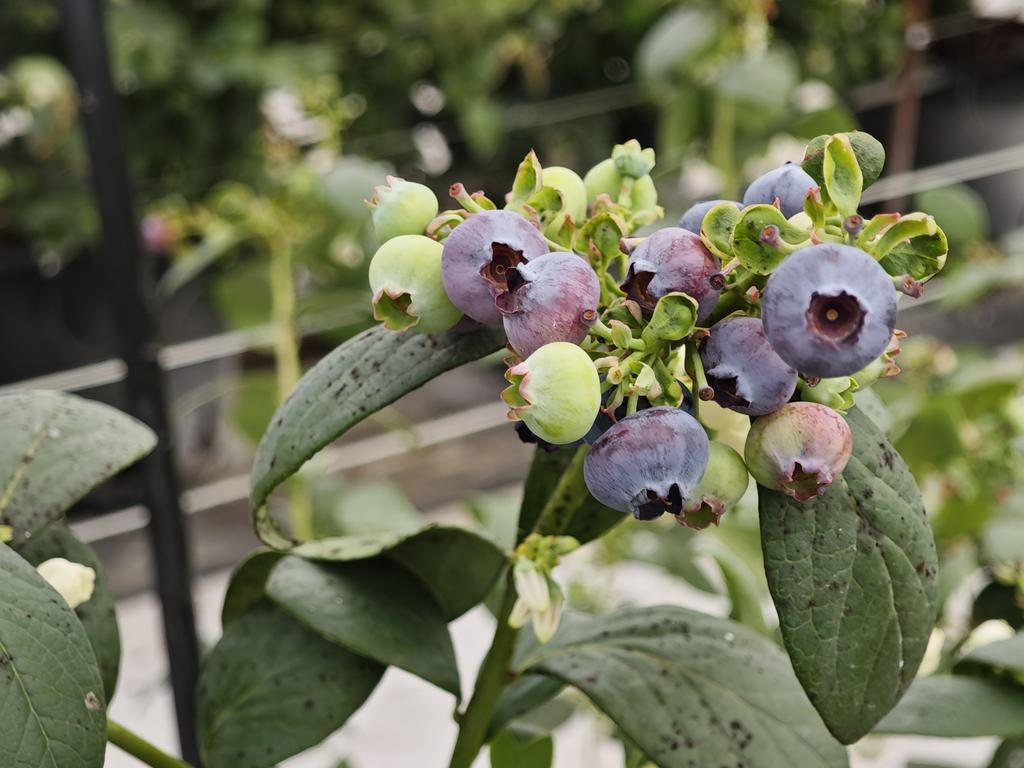RipeBlueBerry: (760, 244, 901, 380), (582, 404, 715, 518), (702, 314, 800, 418)
Semi-RipeBlueBerry: (440, 207, 550, 328), (742, 399, 856, 500), (498, 250, 603, 349), (621, 225, 726, 324)
UnripeBlueBerry: (502, 338, 604, 445), (365, 230, 465, 339)
